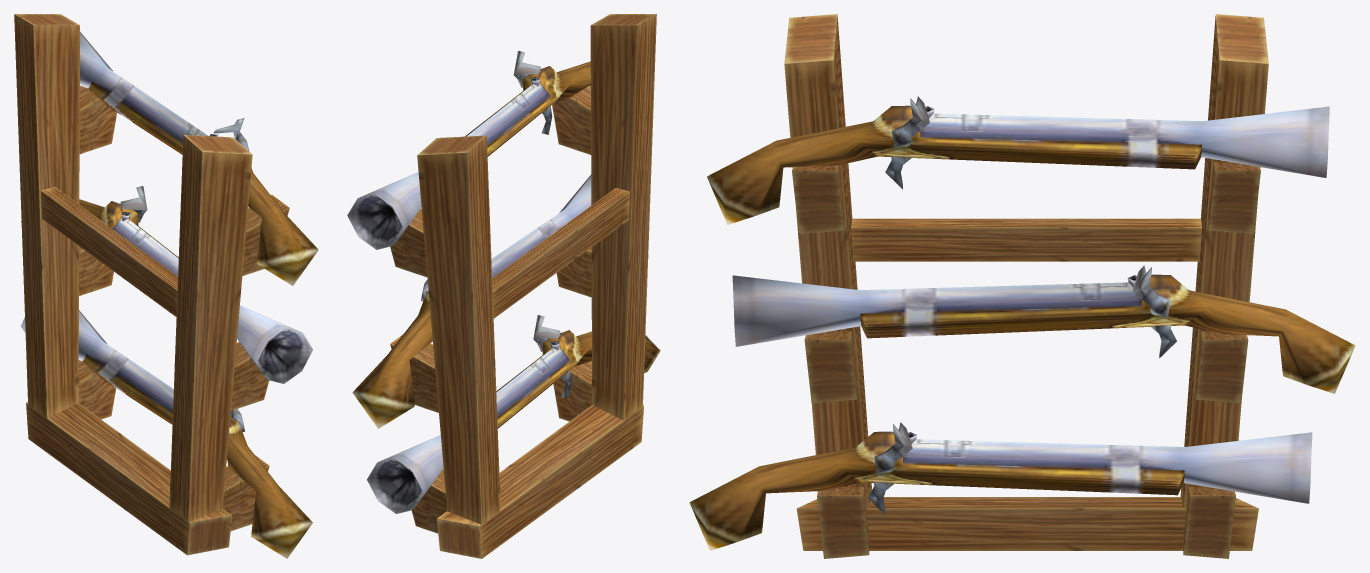
The model's file is gunrack01d.obj.
3 views of the same model, side by side, from view 1: azimuth 30°, elevation 25°; view 2: azimuth 150°, elevation 25°; view 3: azimuth 270°, elevation 25° (orthographic). The views are drawn at different scales.
Parts seen in each view (by area): view 1: Geoset0, Geoset1; view 2: Geoset0, Geoset1; view 3: Geoset1, Geoset0.
Part boxes in pixels (box(x1,y1,x2,y2)): Geoset0: box(14, 14, 289, 555); Geoset1: box(20, 31, 318, 558); Geoset0: box(390, 14, 656, 558); Geoset1: box(347, 50, 660, 513); Geoset1: box(689, 96, 1355, 550); Geoset0: box(784, 14, 1268, 558).
Size of the model in its own units: 0.3639 by 1.54 by 1.77.
2 materials, 2 textured.
